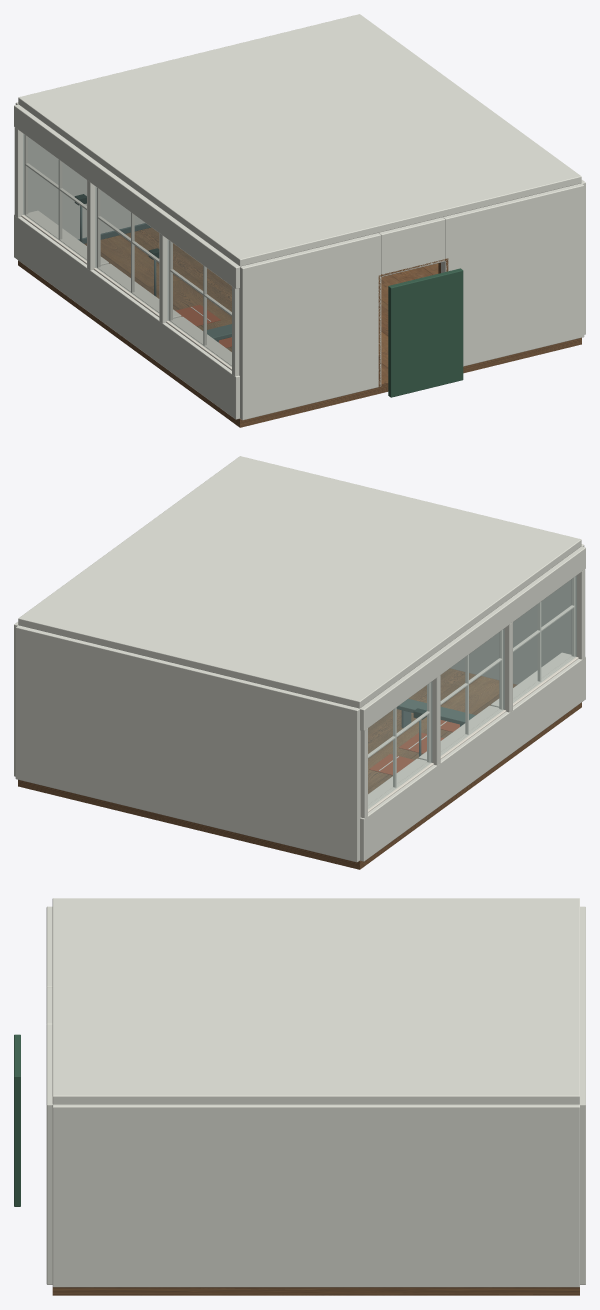
3 renders of one model, top to bottom at view 1: azimuth 30°, elevation 25°; view 2: azimuth 150°, elevation 25°; view 3: azimuth 270°, elevation 25°, orthographic. The views are drawn at different scales.
Parts seen in each view (by area): view 1: 1-1__architecture_and_equipment; view 2: 1-1__architecture_and_equipment; view 3: 1-1__architecture_and_equipment.
Boxes of the visible parts, x1,y1,x2,y2 form: 1-1__architecture_and_equipment: (14, 14, 585, 427); 1-1__architecture_and_equipment: (14, 456, 585, 869); 1-1__architecture_and_equipment: (14, 898, 585, 1295).
Size of the model in its own units: 8.2 by 3.76 by 9.76.
15 materials, 1 textured.
